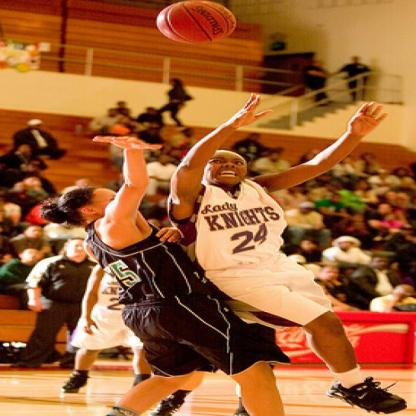basketball: (155, 0, 238, 44)
